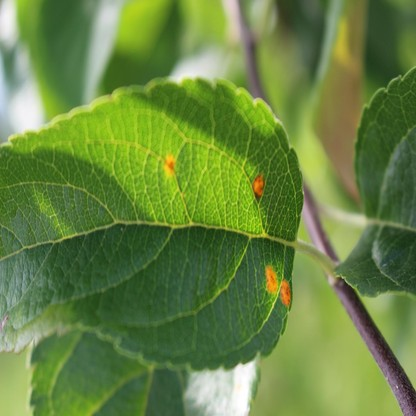rust: (265, 267, 277, 292), (280, 279, 291, 306), (253, 176, 264, 201), (163, 152, 172, 174)
